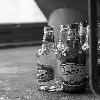beer: (31, 23, 64, 94)
